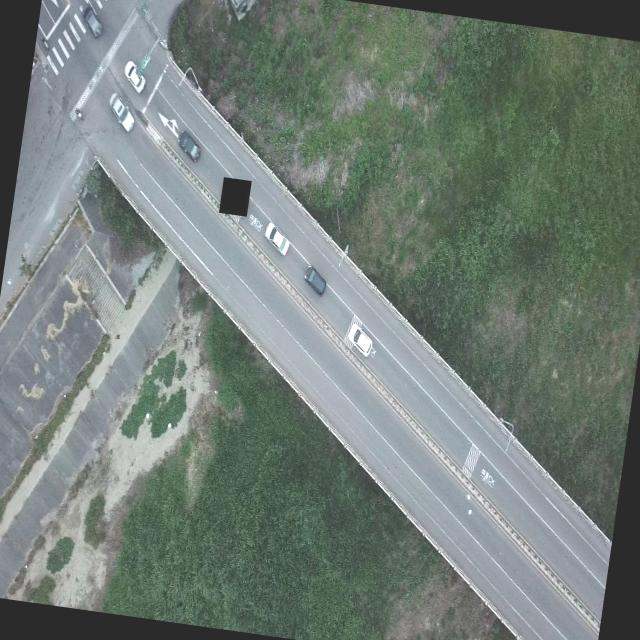car: (106, 92, 138, 135), (346, 322, 378, 359), (301, 262, 329, 296), (264, 223, 292, 257), (122, 58, 148, 94), (174, 130, 203, 162), (79, 4, 105, 38)
